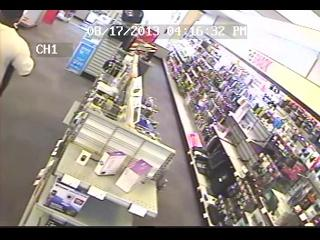Normal: (1, 11, 36, 97)
